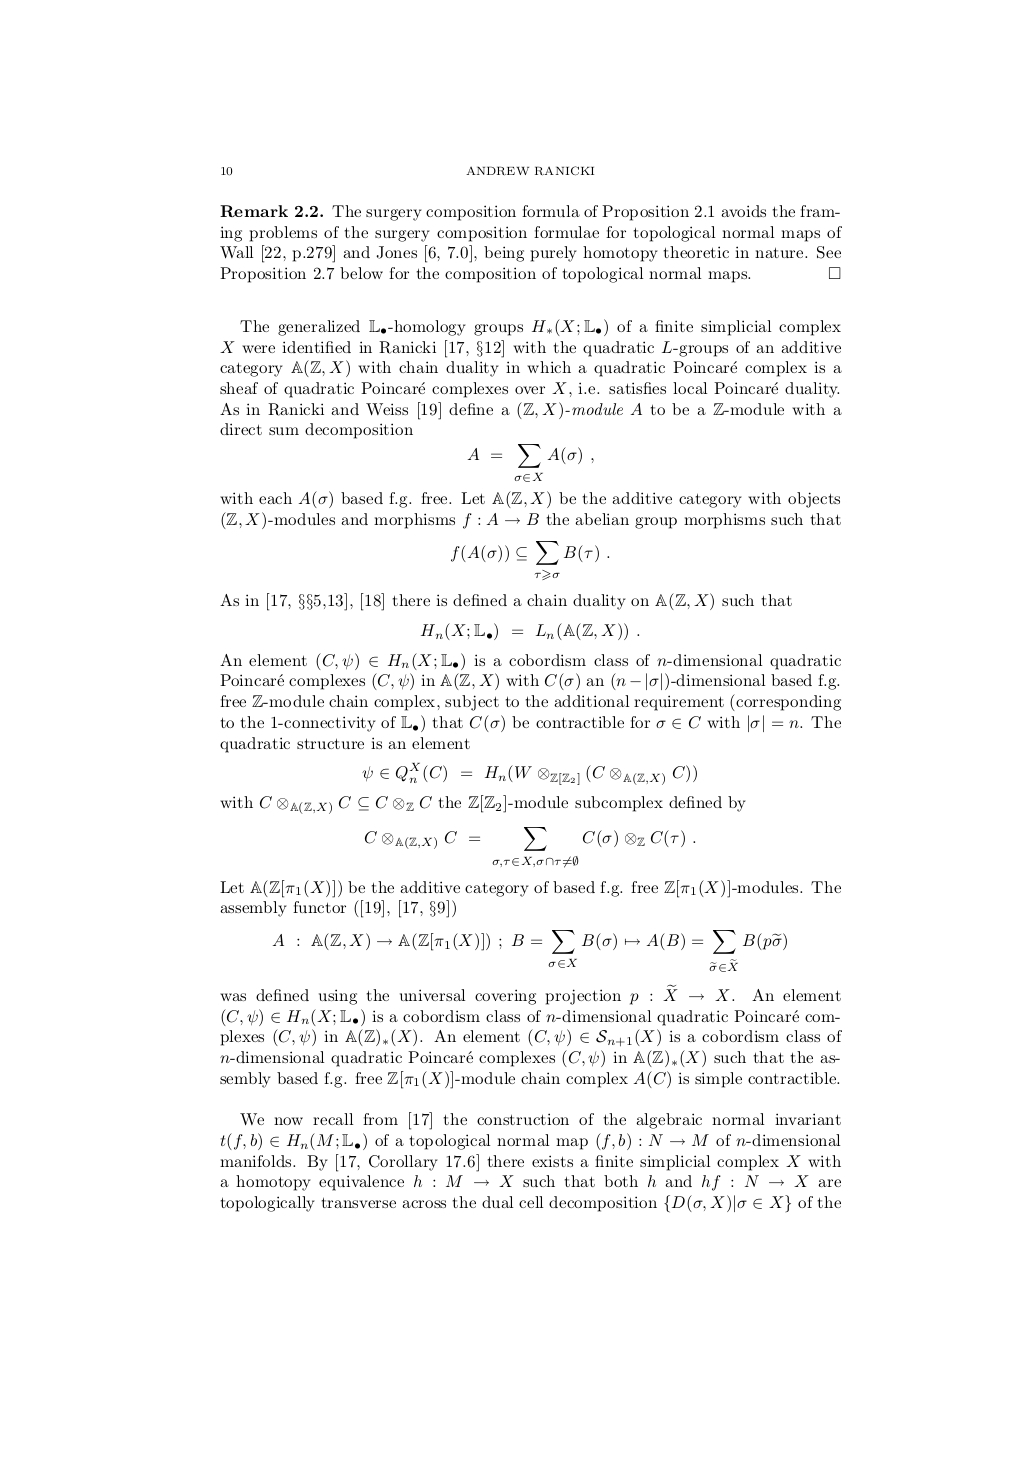formula: (273, 930, 786, 971), (364, 827, 695, 867), (362, 761, 696, 785), (451, 541, 609, 580), (467, 444, 593, 481), (420, 622, 639, 641)
